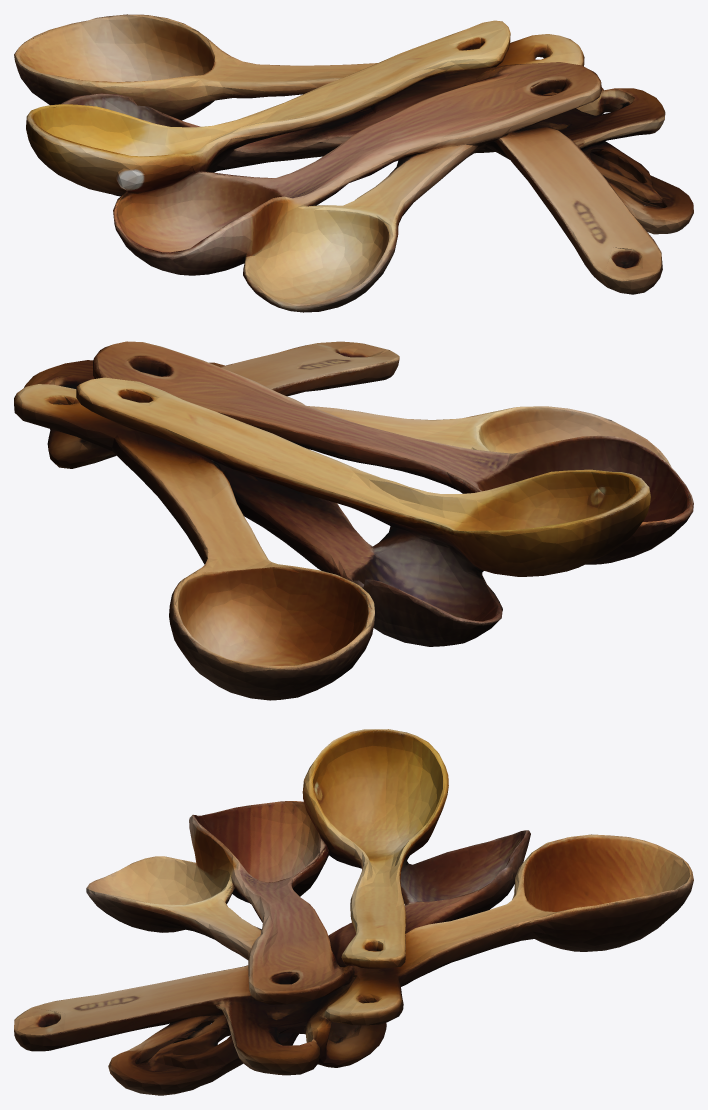
Rendered from wooden-measuring-spoons-3d.jpeg.glb.
3 views of the same model, one above another, from view 1: azimuth 30°, elevation 25°; view 2: azimuth 150°, elevation 25°; view 3: azimuth 270°, elevation 25° (orthographic). The views are drawn at different scales.
Visible parts, largest first — view 1: world; view 2: world; view 3: world.
Part boxes in pixels (<box>): world: <box>14,14,693,312</box>; world: <box>14,341,693,700</box>; world: <box>14,729,693,1095</box>.
Bounding box in the file's own units: 0.9286 × 0.2054 × 1.
1 material, 1 textured.
